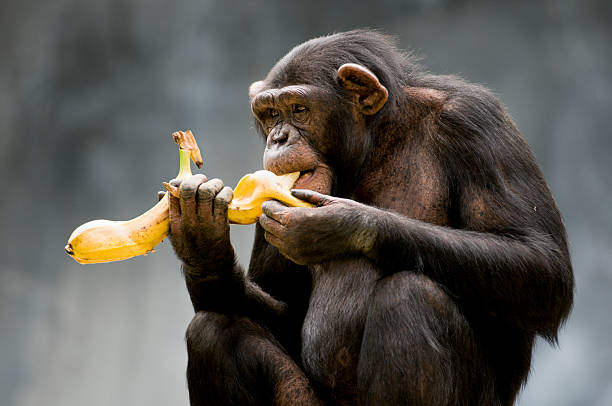chimpanzee: (232, 8, 437, 227)
